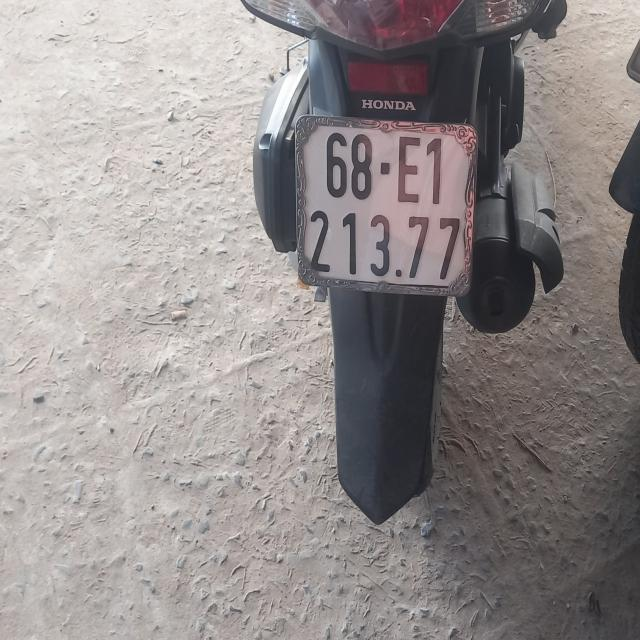1: (426, 139, 441, 204), (342, 213, 357, 276)
2: (308, 210, 330, 273)
3: (369, 215, 390, 276)
6: (326, 132, 346, 197)
7: (407, 213, 428, 280), (439, 217, 459, 282)
8: (352, 134, 372, 199)
E: (398, 136, 420, 206)
